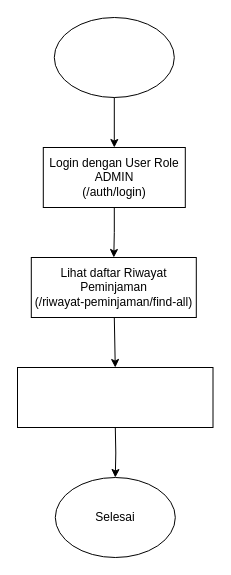
Image size: 231x575. Some labels were removed from this diagram. The box of each missing label's shape, as (x1, y1, x2, y2) in pixels:
Kembalikan buku (/riwayat-peminjaman/kembalikan): (16, 366, 213, 428)
Mulai: (53, 16, 174, 98)
